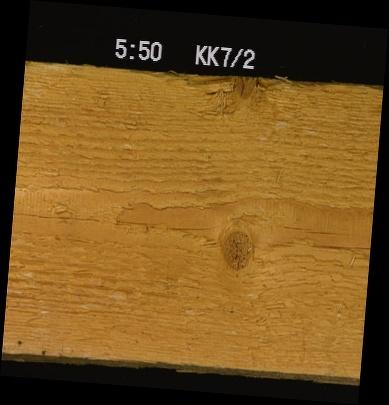split: (12, 212, 99, 219), (302, 228, 348, 236)
wave: (140, 73, 326, 90)
